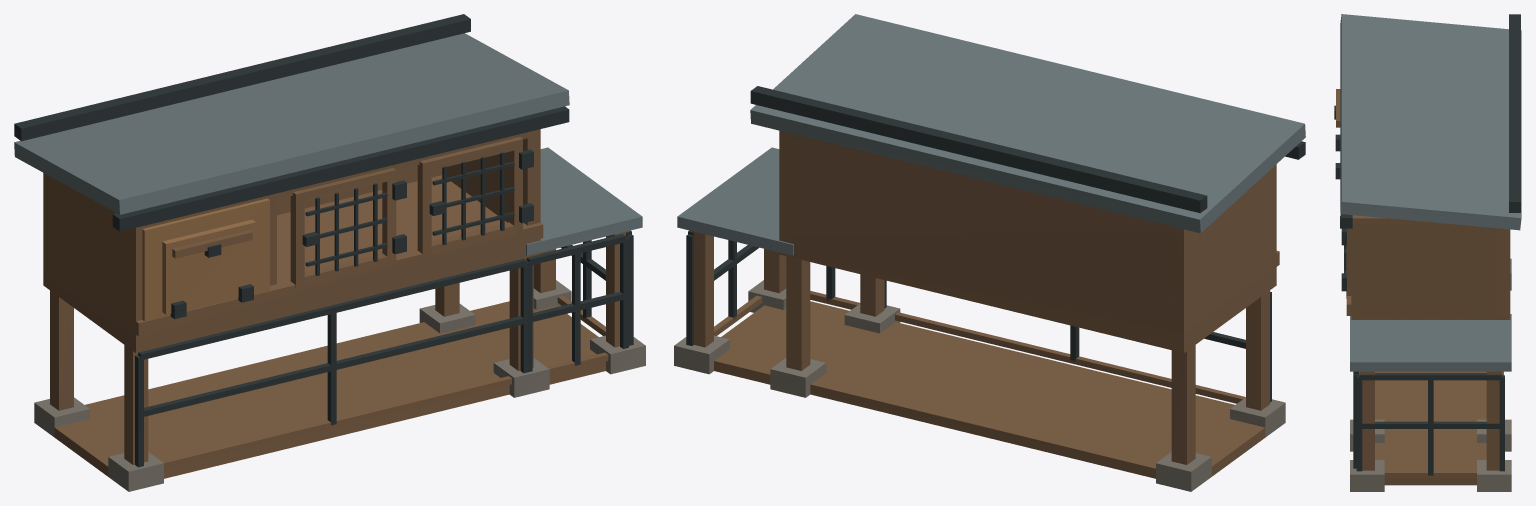
File: rabbit-hutch.source.glb
3 views of the same model, side by side, from view 1: azimuth 30°, elevation 25°; view 2: azimuth 150°, elevation 25°; view 3: azimuth 270°, elevation 25° (orthographic). The views are drawn at different scales.
Parts seen in each view (by area): view 1: rabbit-hutch-shallow-single-slope-roof-mesh, rabbit-hutch-ground-run-floor-mesh, rabbit-hutch-raised-cabinet-floor-mesh, rabbit-hutch-cabinet-left-wall-mesh, rabbit-hutch-high-roof-edge-mesh, rabbit-hutch-low-roof-edge-mesh, rabbit-hutch-side-run-awning-mesh, rabbit-hutch-solid-service-hatch-panel-mesh, rabbit-hutch-front-lower-rail-mesh, rabbit-hutch-sleeping-box-front-panel-mesh, rabbit-hutch-front-under-hutch-mesh-horizontal-0-mesh, rabbit-hutch-front-under-hutch-mesh-horizontal-0.34-mesh (+31 smaller); view 2: rabbit-hutch-shallow-single-slope-roof-mesh, rabbit-hutch-cabinet-back-panel-mesh, rabbit-hutch-ground-run-floor-mesh, rabbit-hutch-raised-cabinet-floor-mesh, rabbit-hutch-cabinet-left-wall-mesh, rabbit-hutch-high-roof-edge-mesh, rabbit-hutch-side-run-awning-mesh, rabbit-hutch-front-under-hutch-mesh-horizontal--0.34-mesh, rabbit-hutch-slender-leg--1.2--0.4-mesh, rabbit-hutch-slender-leg-1.2--0.4-mesh, rabbit-hutch-slender-leg--1.2-0.4-mesh, rabbit-hutch-slender-leg-1.8--0.4-mesh (+10 smaller); view 3: rabbit-hutch-shallow-single-slope-roof-mesh, rabbit-hutch-cabinet-right-wall-mesh, rabbit-hutch-ground-run-floor-mesh, rabbit-hutch-side-run-awning-mesh, rabbit-hutch-high-roof-edge-mesh, rabbit-hutch-slender-leg-1.8--0.4-mesh, rabbit-hutch-cabinet-back-panel-mesh, rabbit-hutch-slender-leg-1.8-0.4-mesh, rabbit-hutch-right-side-run-mesh-horizontal-0.34-mesh, rabbit-hutch-right-side-run-mesh-horizontal-0-mesh, rabbit-hutch-stone-foot-1.8--0.4-mesh, rabbit-hutch-stone-foot-1.8-0.4-mesh (+10 smaller).
Boxes of the visible parts, left/top/right/bottom form: rabbit-hutch-shallow-single-slope-roof-mesh: left=14, top=33, right=569, bottom=214; rabbit-hutch-ground-run-floor-mesh: left=54, top=301, right=605, bottom=478; rabbit-hutch-raised-cabinet-floor-mesh: left=43, top=175, right=540, bottom=352; rabbit-hutch-cabinet-left-wall-mesh: left=43, top=173, right=148, bottom=341; rabbit-hutch-high-roof-edge-mesh: left=14, top=14, right=470, bottom=141; rabbit-hutch-low-roof-edge-mesh: left=112, top=106, right=569, bottom=231; rabbit-hutch-side-run-awning-mesh: left=526, top=147, right=642, bottom=255; rabbit-hutch-solid-service-hatch-panel-mesh: left=162, top=219, right=255, bottom=314; rabbit-hutch-front-lower-rail-mesh: left=134, top=222, right=543, bottom=336; rabbit-hutch-sleeping-box-front-panel-mesh: left=142, top=198, right=269, bottom=321; rabbit-hutch-front-under-hutch-mesh-horizontal-0-mesh: left=142, top=316, right=523, bottom=416; rabbit-hutch-front-under-hutch-mesh-horizontal-0.34-mesh: left=138, top=258, right=526, bottom=359; rabbit-hutch-shallow-single-slope-roof-mesh: left=750, top=14, right=1305, bottom=233; rabbit-hutch-cabinet-back-panel-mesh: left=779, top=135, right=1191, bottom=332; rabbit-hutch-ground-run-floor-mesh: left=714, top=301, right=1265, bottom=478; rabbit-hutch-raised-cabinet-floor-mesh: left=779, top=237, right=1276, bottom=352; rabbit-hutch-cabinet-left-wall-mesh: left=1171, top=164, right=1276, bottom=338; rabbit-hutch-high-roof-edge-mesh: left=750, top=86, right=1207, bottom=213; rabbit-hutch-side-run-awning-mesh: left=677, top=147, right=793, bottom=255; rabbit-hutch-front-under-hutch-mesh-horizontal--0.34-mesh: left=895, top=312, right=1245, bottom=403; rabbit-hutch-slender-leg--1.2--0.4-mesh: left=1171, top=345, right=1195, bottom=464; rabbit-hutch-slender-leg-1.2--0.4-mesh: left=786, top=256, right=810, bottom=370; rabbit-hutch-slender-leg--1.2-0.4-mesh: left=1246, top=290, right=1269, bottom=410; rabbit-hutch-slender-leg-1.8--0.4-mesh: left=690, top=230, right=713, bottom=347; rabbit-hutch-shallow-single-slope-roof-mesh: left=1340, top=14, right=1521, bottom=230; rabbit-hutch-cabinet-right-wall-mesh: left=1351, top=224, right=1510, bottom=319; rabbit-hutch-ground-run-floor-mesh: left=1359, top=371, right=1503, bottom=485; rabbit-hutch-side-run-awning-mesh: left=1350, top=314, right=1511, bottom=371; rabbit-hutch-high-roof-edge-mesh: left=1509, top=14, right=1520, bottom=212; rabbit-hutch-slender-leg-1.8--0.4-mesh: left=1486, top=371, right=1501, bottom=470; rabbit-hutch-cabinet-back-panel-mesh: left=1497, top=228, right=1510, bottom=315; rabbit-hutch-slender-leg-1.8-0.4-mesh: left=1359, top=371, right=1374, bottom=470; rabbit-hutch-right-side-run-mesh-horizontal-0.34-mesh: left=1359, top=373, right=1502, bottom=380; rabbit-hutch-right-side-run-mesh-horizontal-0-mesh: left=1359, top=421, right=1501, bottom=428; rabbit-hutch-stone-foot-1.8--0.4-mesh: left=1477, top=460, right=1511, bottom=491; rabbit-hutch-stone-foot-1.8-0.4-mesh: left=1350, top=460, right=1384, bottom=491.
Bounding box in the file's own units: 3.31 × 1.78 × 1.18.
